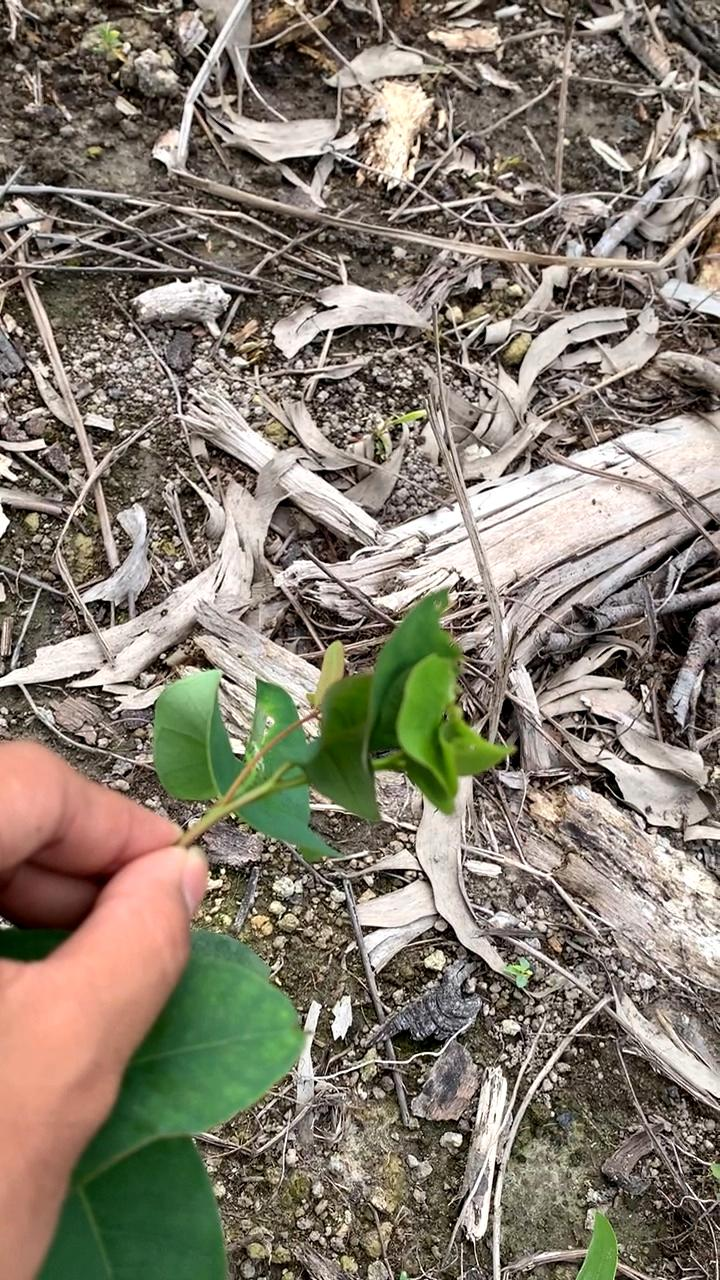Leaf Roller - Leaf: (306, 588, 513, 825)
